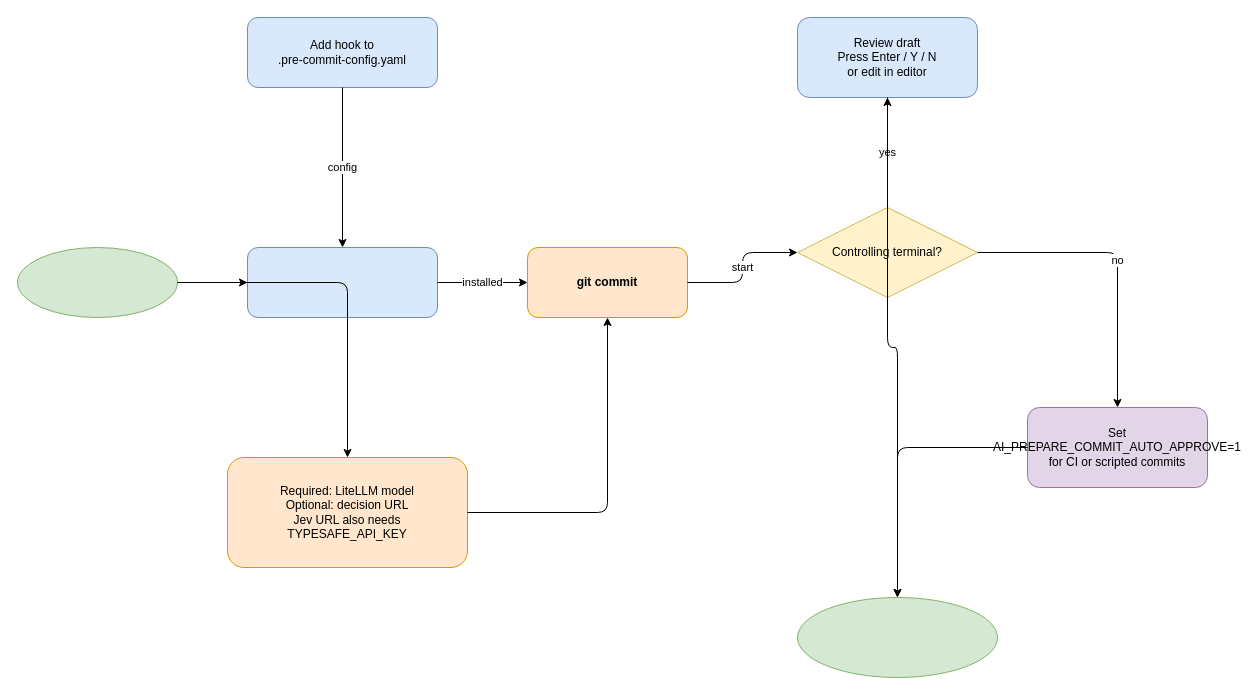
The diagram is 1259 pixels wide and 695 high, and some of its shapes have lost their labels. The shapes that lost their labels are listed below. From the top down, each one's box as (x1, y1, x2, y2) in pixels, then its label:
(16, 246, 178, 318): Repository + staged change
(246, 246, 438, 318): uvx pre-commit install --hook-type prepare-commit-msg
(796, 596, 998, 678): Commit message written and commit continues
